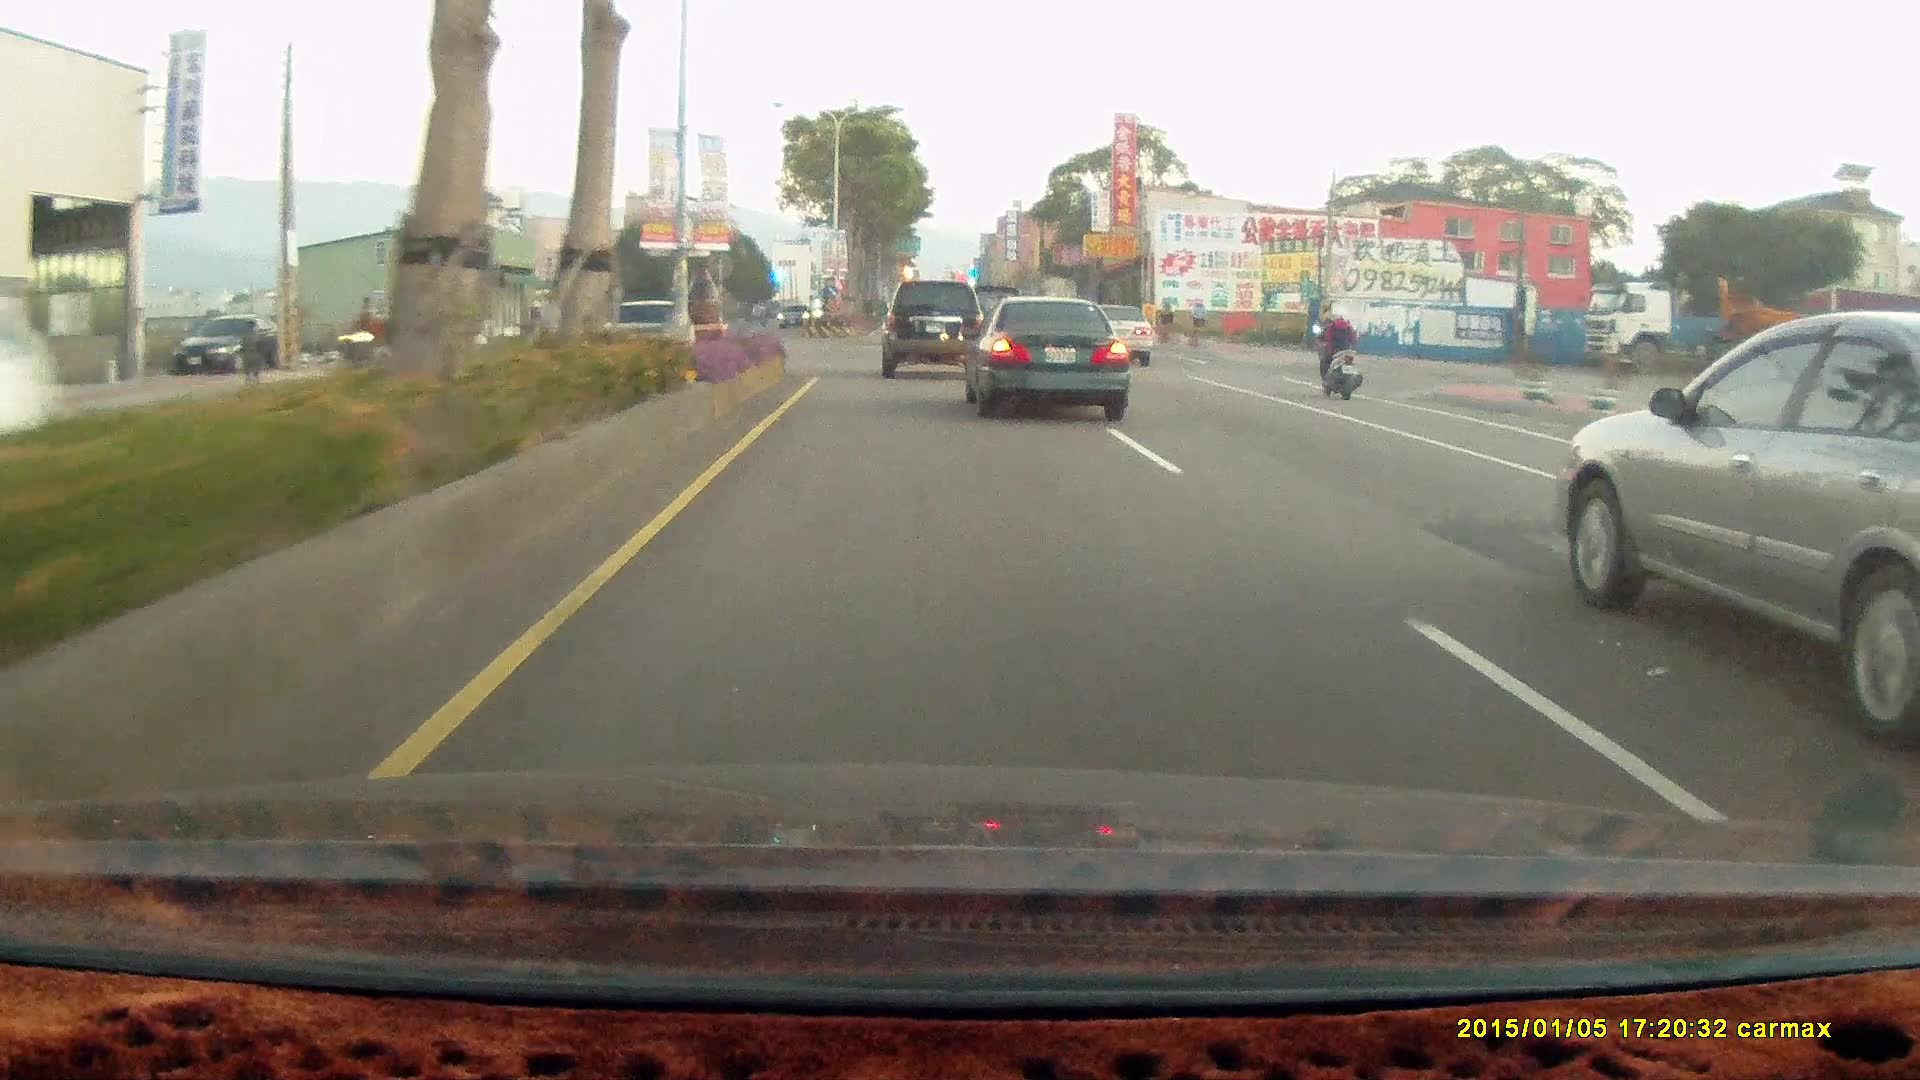pedestrian: (237, 317, 263, 385)
rider: (1305, 297, 1371, 408), (1309, 292, 1365, 389), (329, 301, 387, 386)
vehicle: (1551, 310, 1920, 747), (1581, 279, 1920, 376), (955, 289, 1125, 413), (969, 293, 1134, 414), (0, 290, 60, 510), (880, 274, 989, 374), (879, 278, 983, 379), (595, 295, 701, 367), (172, 312, 274, 371), (1075, 301, 1157, 368), (775, 302, 812, 327)
